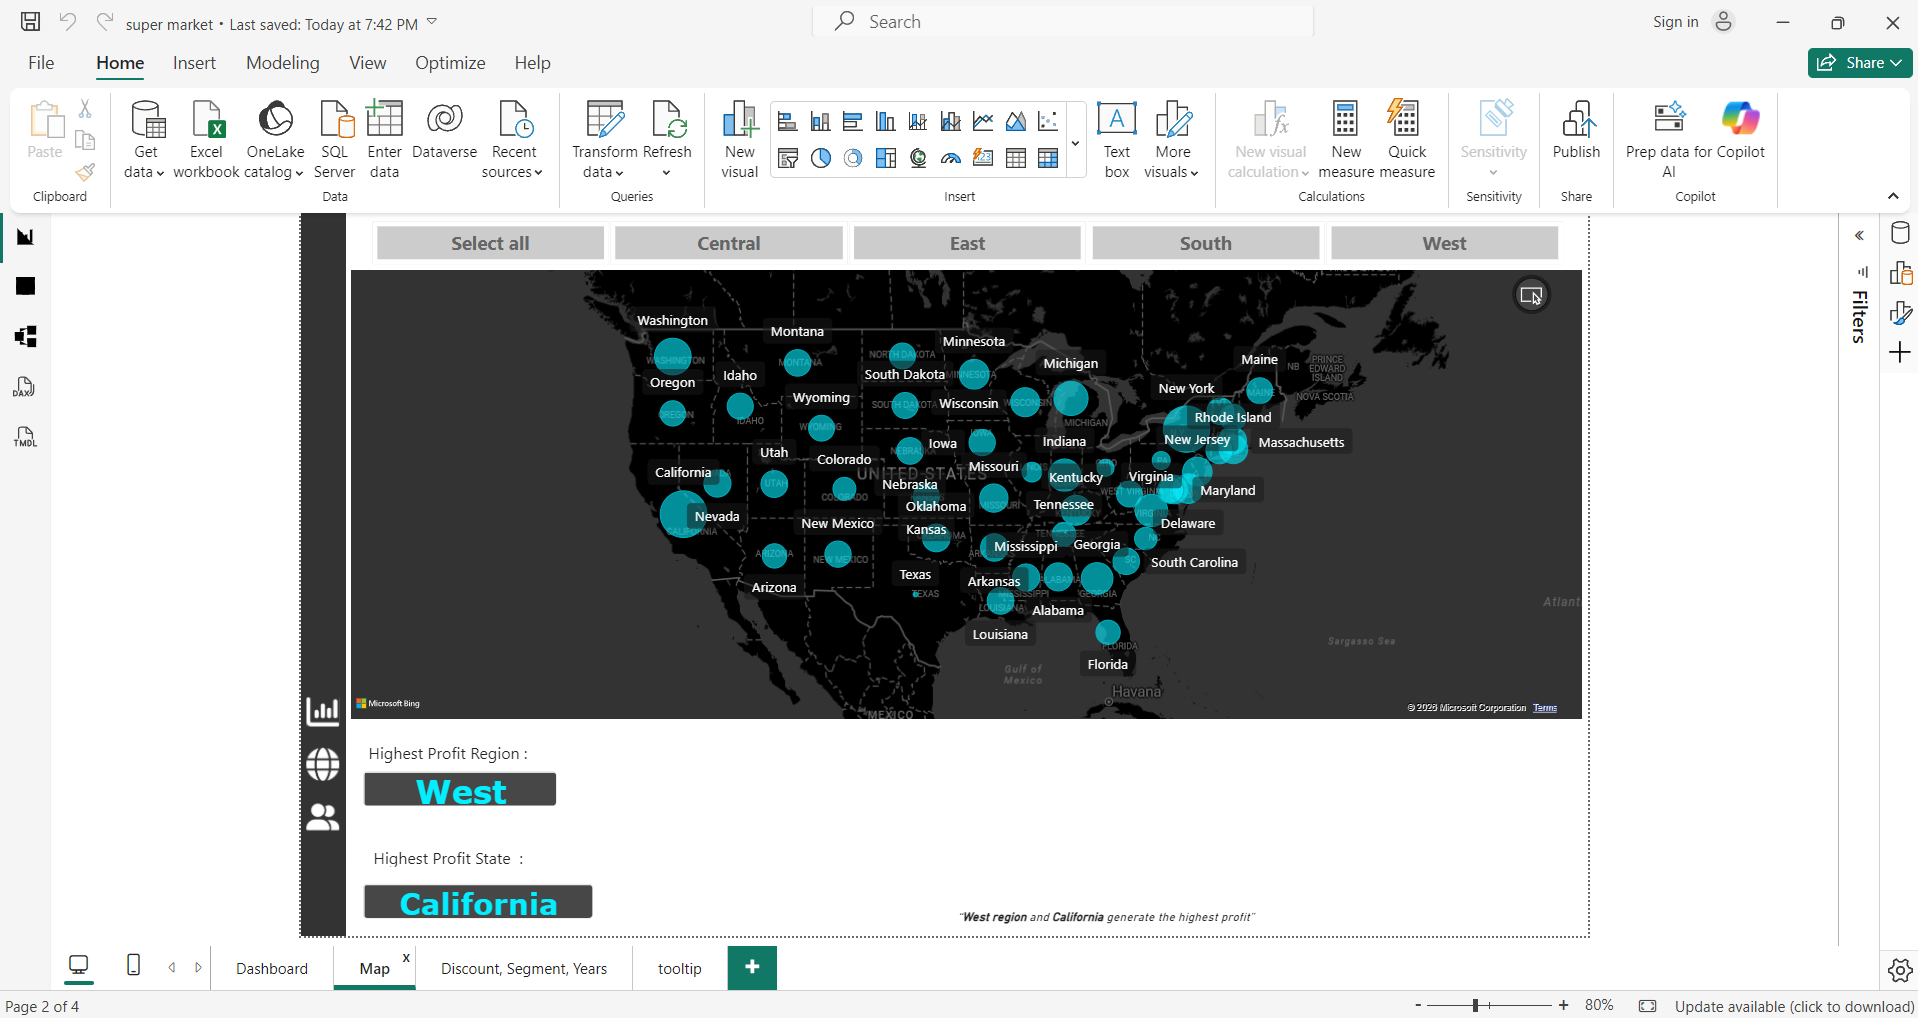

Layout of this report page (visuals, bound fields, positions):
{"tool":"powerbi","page":{"name":"Map","canvas":[1280,720],"ordinal":1},"visuals":[{"type":"shape","box":[0,0,45,720.3],"z":0},{"type":"actionButton","box":[1.7,475.2,41.1,42.3],"z":0,"group":"g1"},{"type":"map","fields":{"Category":["Sample - Superstore.State"],"Size":["Sum(Sample - Superstore.Profit)"]},"box":[44.7,27.4,1235,480.4],"z":1000},{"type":"actionButton","box":[1.7,579.7,41.1,42.3],"z":1000,"group":"g1"},{"type":"actionButton","box":[1.7,527.4,41.1,42.3],"z":2000,"group":"g1"},{"type":"cardVisual","fields":{"Data":["Min(Sample - Superstore.Region)"]},"box":[44.8,538.6,227.6,69.7],"z":2000},{"type":"textbox","box":[62.2,521.2,194.1,33.6],"z":3000},{"type":"textbox","box":[67.2,625.7,227.6,33.6],"z":4000},{"type":"cardVisual","fields":{"Data":["Min(Sample - Superstore.State)"]},"box":[44.8,650.6,263.7,69.7],"z":5000},{"type":"slicer","fields":{"Values":["Sample - Superstore.Region"]},"box":[44.7,1.4,1235,53.4],"z":6000},{"type":"textbox","box":[322.2,685.4,957.8,34.8],"z":7000},{"type":"group","id":"g1","title":"navigation","box":[1.7,475.2,41.1,146.8],"z":7001}]}

Visuals, with their boxes on the page's 1280x720 design canvas (x1, y1, x2, y2). These are canvas units, not pixel positions in the 1918x1018 screenshot, which may show the page scaled, cropped or inside an application window:
shape: BBox(0, 0, 45, 720)
actionButton: BBox(2, 475, 43, 518)
map - Sample - Superstore.State x Sum(Sample - Superstore.Profit): BBox(45, 27, 1280, 508)
actionButton: BBox(2, 580, 43, 622)
actionButton: BBox(2, 527, 43, 570)
cardVisual - Min(Sample - Superstore.Region): BBox(45, 539, 272, 608)
textbox: BBox(62, 521, 256, 555)
textbox: BBox(67, 626, 295, 659)
cardVisual - Min(Sample - Superstore.State): BBox(45, 651, 308, 720)
slicer - Sample - Superstore.Region: BBox(45, 1, 1280, 55)
textbox: BBox(322, 685, 1280, 720)
"navigation" group: BBox(2, 475, 43, 622)
